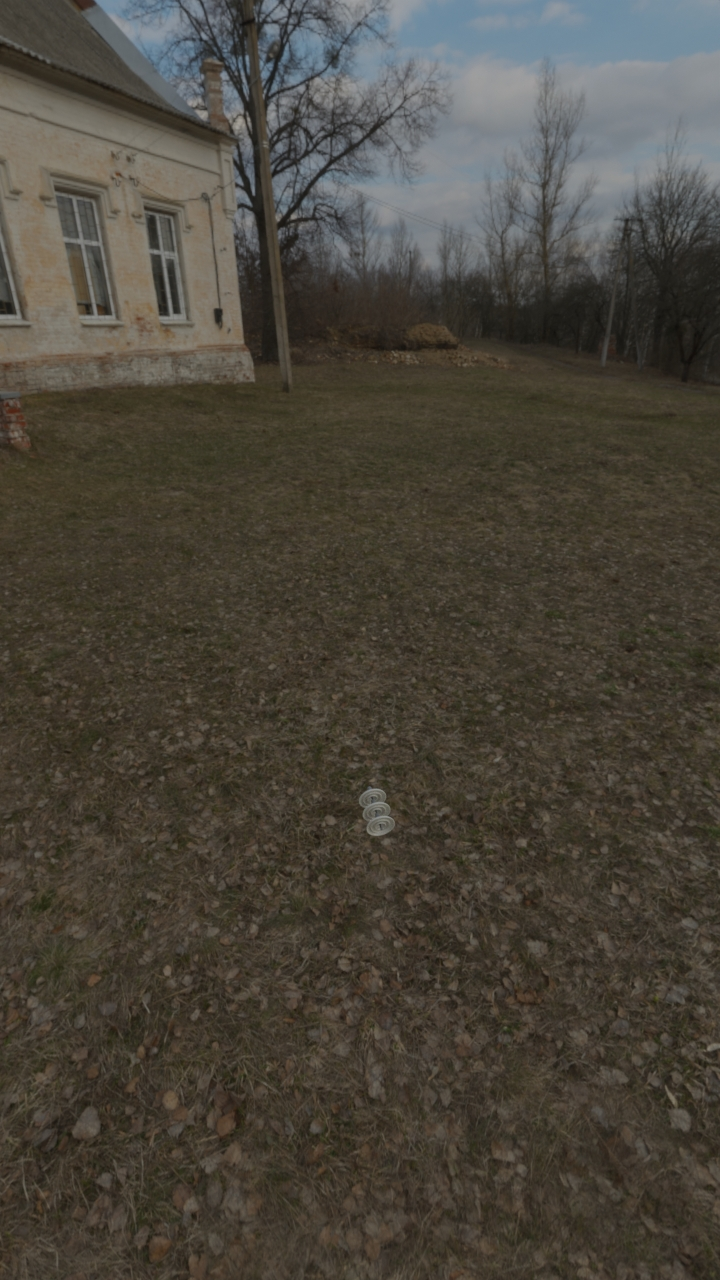ceramicinsulators: (358, 786, 395, 836)
